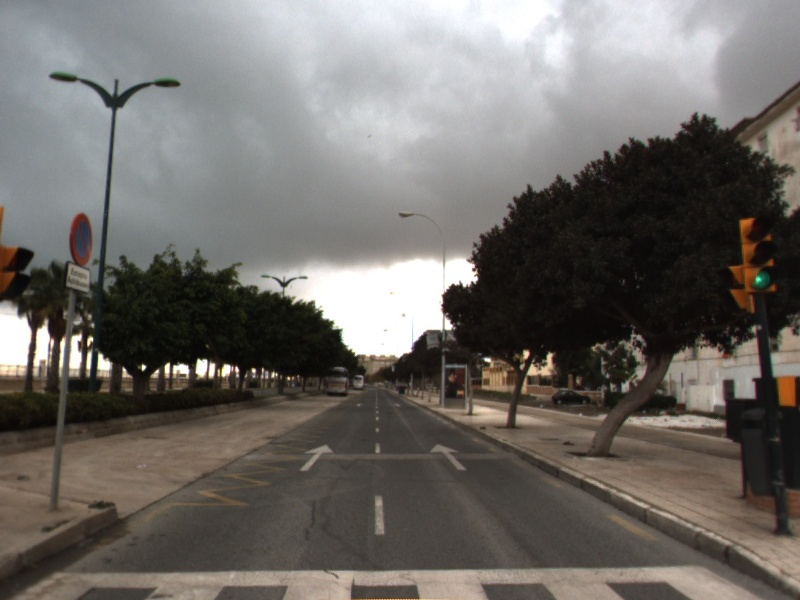STRAIGHT: (428, 442, 469, 472), (297, 442, 336, 473)
